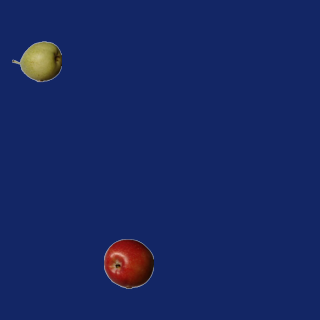Apple Braeburn: (103, 238, 153, 288)
Pear: (11, 36, 61, 86)
